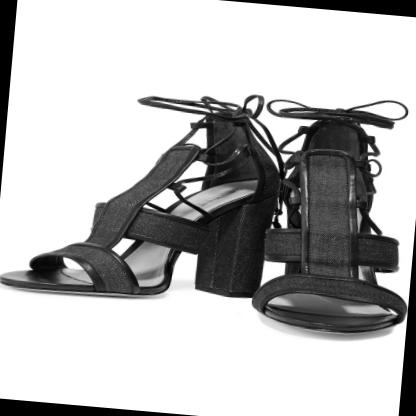ankle: (300, 158, 306, 163), (201, 155, 207, 160)
heel: (234, 285, 251, 296), (292, 268, 298, 273)
left_foot: (1, 90, 275, 312)
pinky: (382, 315, 394, 321), (26, 271, 36, 277)
right_foot: (260, 113, 416, 341)
toe: (47, 279, 60, 288), (284, 311, 297, 319)
